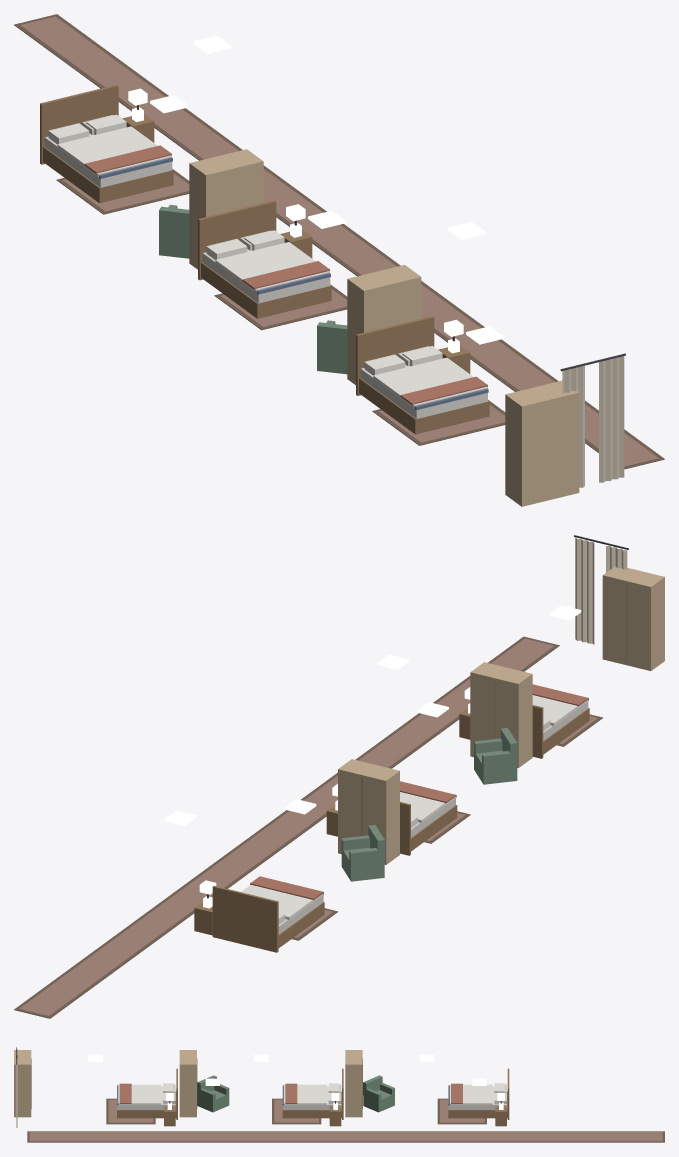
Rendered from fine-s1.glb.
The picture shows the model from 3 angles, top to bottom: view 1: azimuth 30°, elevation 25°; view 2: azimuth 150°, elevation 25°; view 3: azimuth 270°, elevation 25°; orthographic projection. The views are drawn at different scales.
Parts seen in each view (by area): view 1: soft-s1, dresser.002, bed-frame.001, bed-frame.000, bed-frame.002, dresser.000, dresser.001, lounge-chair.000, lounge-chair.001; view 2: soft-s1, dresser.002, dresser.001, dresser.000, bed-frame.000, lounge-chair.001, lounge-chair.000, bed-frame.002, bed-frame.001; view 3: soft-s1, dresser.001, dresser.000, dresser.002, bed-frame.000, bed-frame.001, lounge-chair.000, bed-frame.002, lounge-chair.001, nightstand.001, nightstand.000, nightstand.002.
Boxes of the visible parts, bbox=[...] form: soft-s1: bbox=[14, 14, 664, 487]; dresser.002: bbox=[505, 380, 579, 506]; bed-frame.001: bbox=[198, 200, 331, 318]; bed-frame.000: bbox=[40, 84, 173, 203]; bed-frame.002: bbox=[356, 316, 489, 434]; dresser.000: bbox=[189, 149, 263, 269]; dresser.001: bbox=[347, 265, 421, 384]; lounge-chair.000: bbox=[159, 204, 189, 258]; lounge-chair.001: bbox=[317, 320, 347, 374]; soft-s1: bbox=[14, 535, 628, 1018]; dresser.002: bbox=[602, 566, 664, 670]; dresser.001: bbox=[470, 662, 532, 767]; dresser.000: bbox=[338, 759, 399, 864]; bed-frame.000: bbox=[212, 885, 324, 952]; lounge-chair.001: bbox=[474, 728, 517, 784]; lounge-chair.000: bbox=[341, 825, 384, 881]; bed-frame.002: bbox=[532, 698, 589, 758]; bed-frame.001: bbox=[400, 795, 457, 855]; soft-s1: bbox=[16, 1047, 664, 1142]; dresser.001: bbox=[179, 1050, 197, 1117]; dresser.000: bbox=[345, 1050, 362, 1117]; dresser.002: bbox=[14, 1050, 31, 1117]; bed-frame.000: bbox=[448, 1068, 509, 1119]; bed-frame.001: bbox=[282, 1068, 343, 1119]; lounge-chair.000: bbox=[363, 1075, 394, 1112]; bed-frame.002: bbox=[117, 1068, 177, 1119]; lounge-chair.001: bbox=[197, 1075, 229, 1112]; nightstand.001: bbox=[329, 1102, 341, 1126]; nightstand.000: bbox=[495, 1102, 506, 1126]; nightstand.002: bbox=[164, 1102, 175, 1126].
Bounding box in the file's own units: 3.55 × 2.51 × 22.42.
